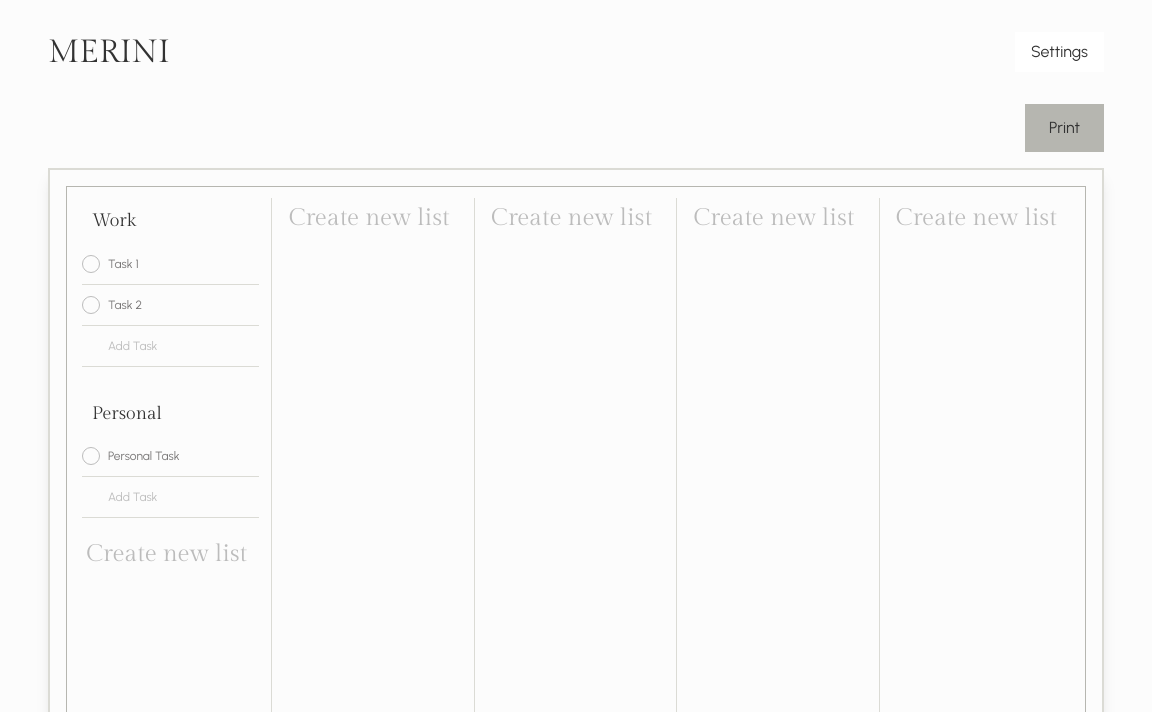
App - List Creation (Happy Path - Inline Input) › Multiple lists can be created in sequence without reactivating input
expect the element showing "Work Task 1 Task 2 Add Task" is shown: met, box [82, 198, 259, 367]
Click the 5th button "Create new list": point(167, 554) [78, 534, 255, 574]
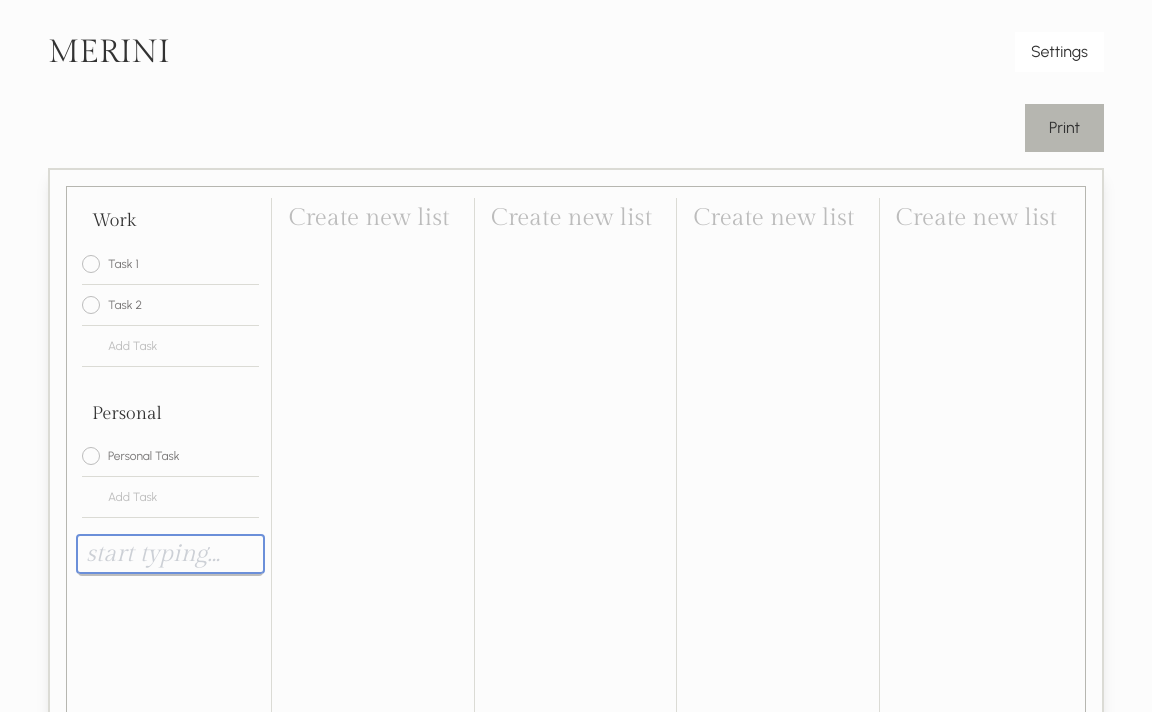
expect the field named "enter list name" is shown: met
In the field named "enter list name": point(171, 554) [78, 532, 263, 576], type "First New List"
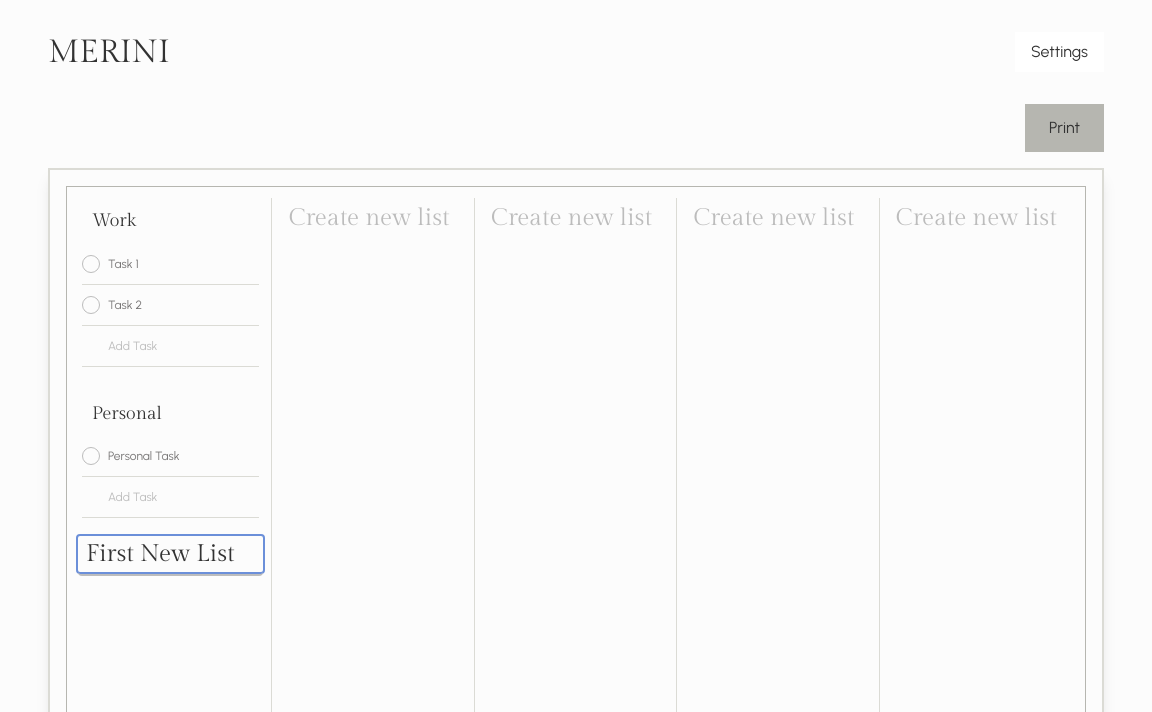
Press Enter
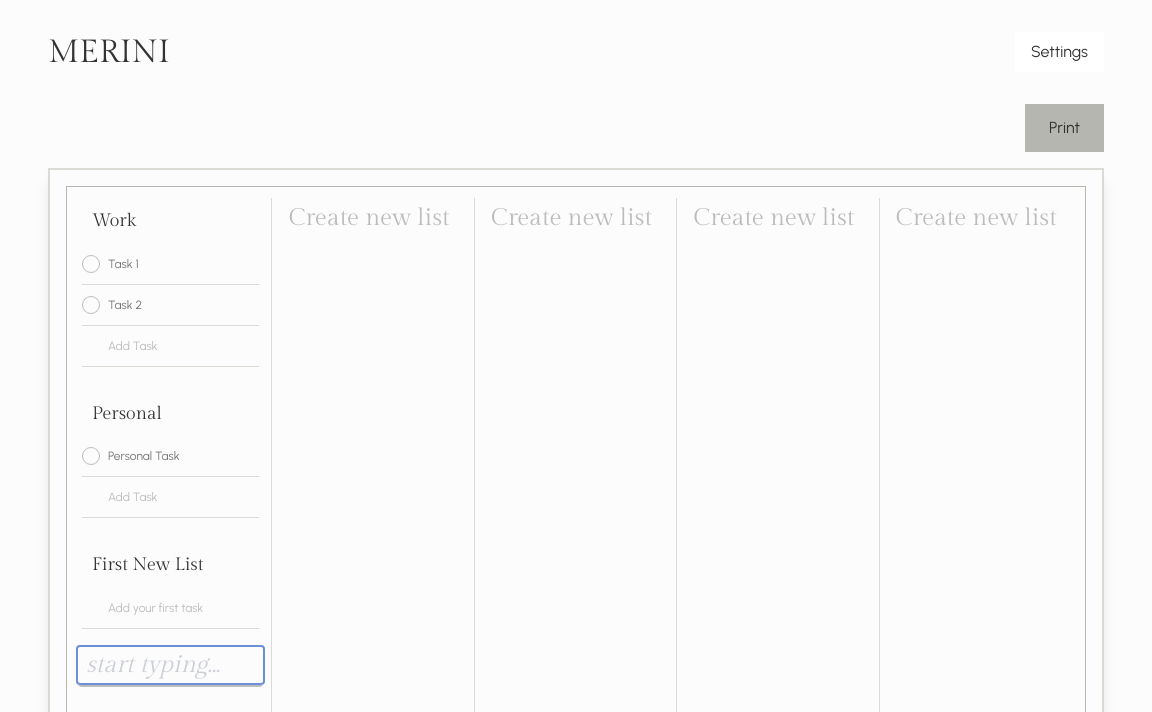
expect the field named "enter list name" is shown: met
expect the button "First New List" is shown: met, box [92, 554, 204, 575]
expect the field named "enter list name" is empty: met
In the field named "enter list name": point(171, 665) [78, 643, 263, 687], type "Second New List"
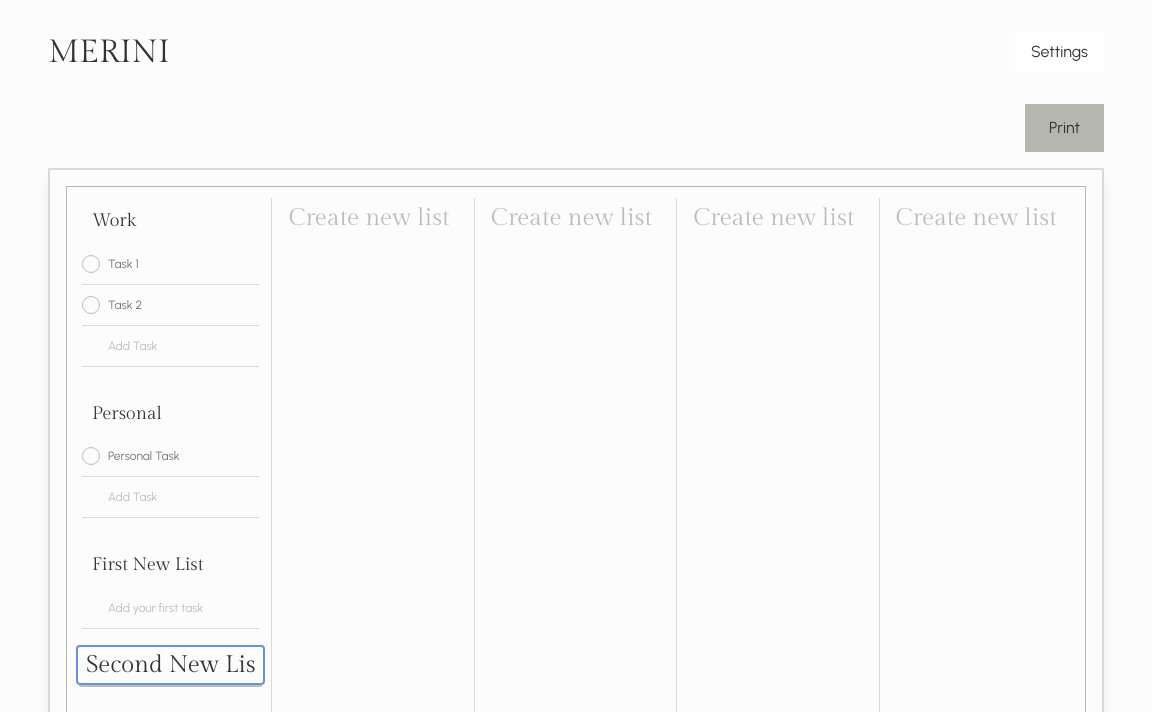
Press Enter
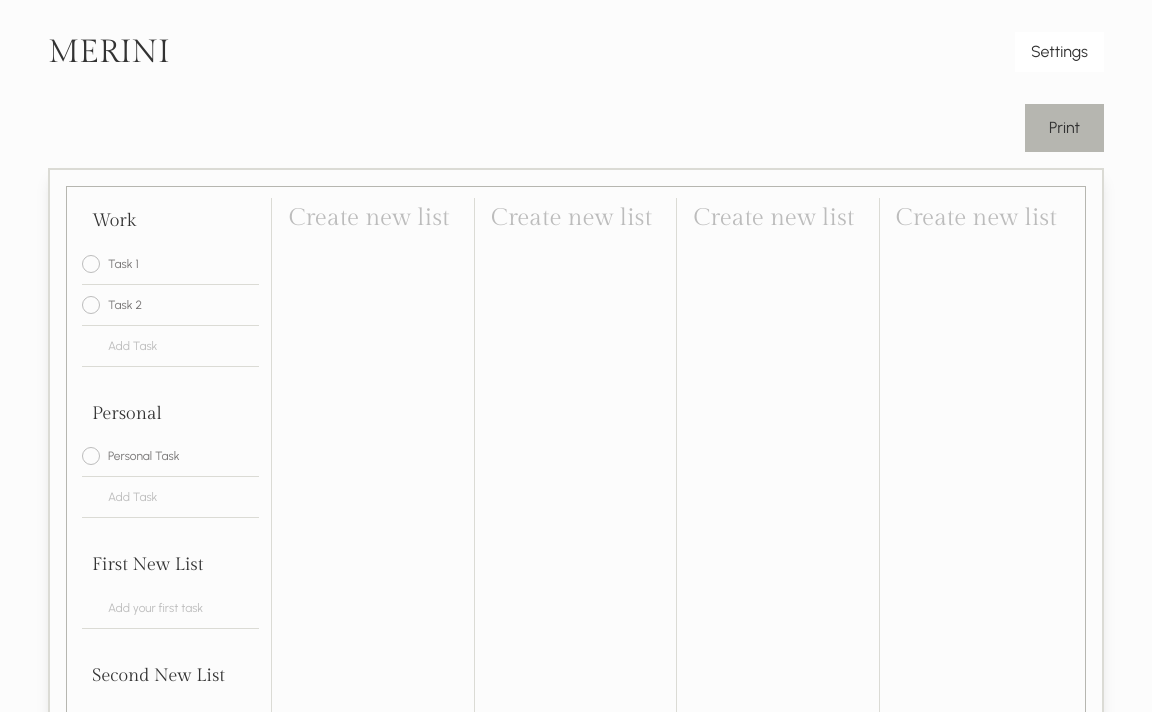
expect the button "First New List" is shown: met, box [92, 554, 204, 575]
expect the button "Second New List" is shown: met, box [92, 665, 225, 686]
